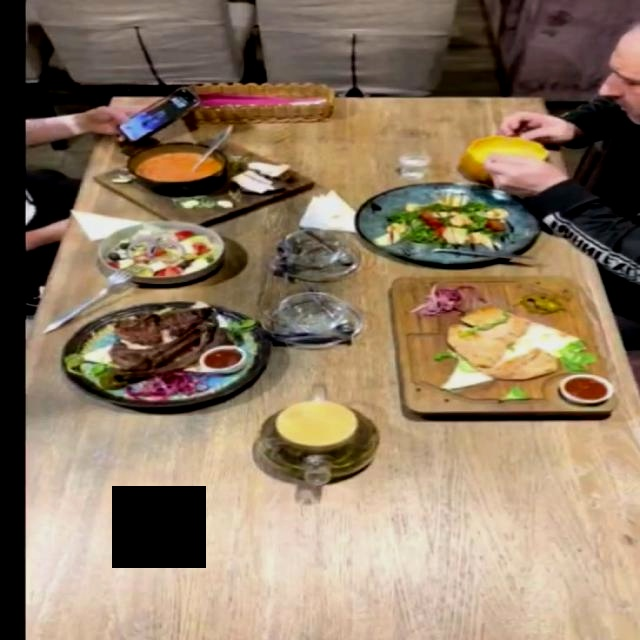meat: (384, 271, 624, 413), (60, 301, 274, 409)
salad: (359, 182, 545, 265), (95, 220, 225, 285)
soup: (96, 142, 323, 227), (461, 136, 549, 182)
tea: (235, 388, 392, 495)
